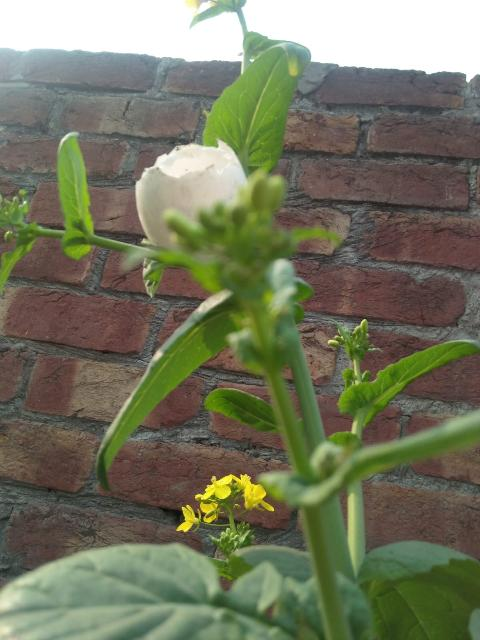Roto: (134, 137, 248, 264)
